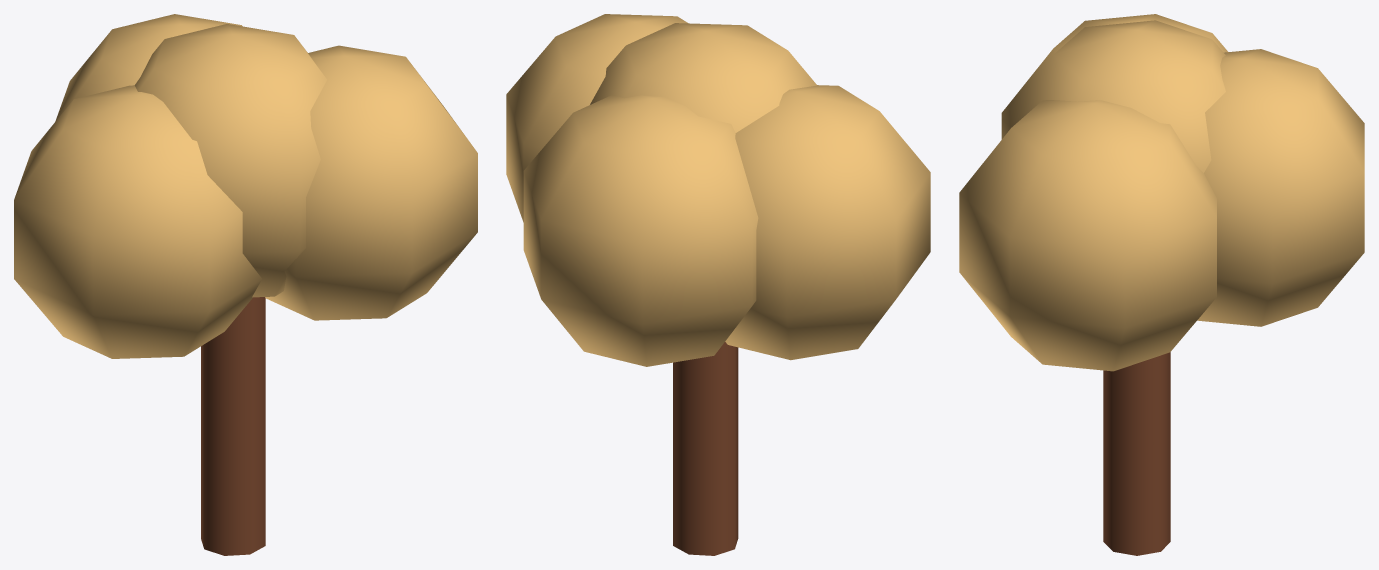
Rendered from tree.glb.
3 views of the same model, side by side, from view 1: azimuth 30°, elevation 25°; view 2: azimuth 150°, elevation 25°; view 3: azimuth 270°, elevation 25° (orthographic).
Parts seen in each view (by area): view 1: _MeshInstance3D_503, _MeshInstance3D_504, _MeshInstance3D_502, _MeshInstance3D_500, _MeshInstance3D_505; view 2: _MeshInstance3D_505, _MeshInstance3D_503, _MeshInstance3D_502, _MeshInstance3D_500, _MeshInstance3D_504; view 3: _MeshInstance3D_504, _MeshInstance3D_505, _MeshInstance3D_502, _MeshInstance3D_500, _MeshInstance3D_503.
Boxes of the visible parts, bbox=[...] form: _MeshInstance3D_503: bbox=[14, 85, 261, 358]; _MeshInstance3D_504: bbox=[265, 45, 477, 320]; _MeshInstance3D_502: bbox=[134, 24, 326, 297]; _MeshInstance3D_500: bbox=[201, 297, 265, 555]; _MeshInstance3D_505: bbox=[55, 14, 242, 121]; _MeshInstance3D_505: bbox=[523, 95, 758, 366]; _MeshInstance3D_503: bbox=[725, 85, 930, 360]; _MeshInstance3D_502: bbox=[590, 23, 817, 132]; _MeshInstance3D_500: bbox=[673, 342, 738, 555]; _MeshInstance3D_504: bbox=[506, 14, 687, 222]; _MeshInstance3D_504: bbox=[959, 100, 1216, 371]; _MeshInstance3D_505: bbox=[1197, 49, 1364, 326]; _MeshInstance3D_502: bbox=[1001, 20, 1225, 172]; _MeshInstance3D_500: bbox=[1103, 352, 1170, 555]; _MeshInstance3D_503: bbox=[1001, 14, 1228, 118].
Size of the model in its own units: 4.5 by 5.35 by 3.84.
